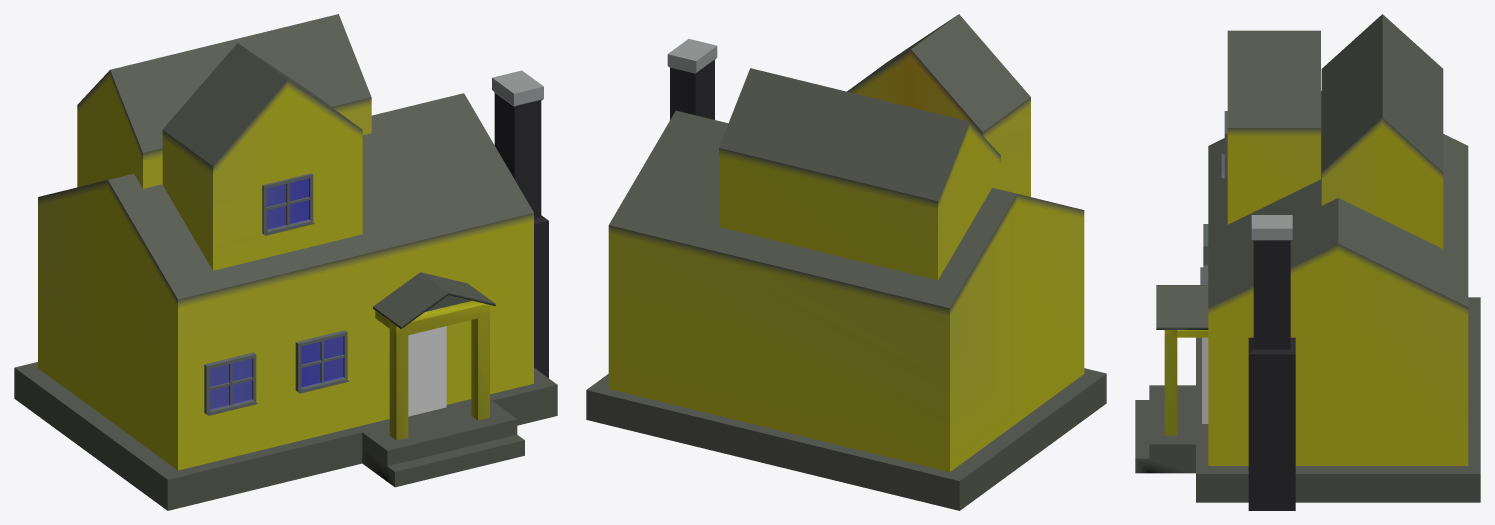
Rendered from casaAmarela.fbx.
3 views of the same model, side by side, from view 1: azimuth 30°, elevation 25°; view 2: azimuth 150°, elevation 25°; view 3: azimuth 270°, elevation 25° (orthographic). The views are drawn at different scales.
Visible parts, largest first — view 1: House, Chimney, Door, FrontLeftWindow, FrontRightWindow, SecondFloorWindow; view 2: House, Chimney; view 3: House, Chimney, Door.
Boxes of the visible parts, x1=… form: House: x1=14, y1=14, x2=557, y2=510; Chimney: x1=492, y1=70, x2=548, y2=377; Door: x1=408, y1=307, x2=446, y2=416; FrontLeftWindow: x1=204, y1=352, x2=257, y2=415; FrontRightWindow: x1=295, y1=330, x2=348, y2=393; SecondFloorWindow: x1=262, y1=173, x2=314, y2=235; House: x1=586, y1=14, x2=1106, y2=510; Chimney: x1=667, y1=39, x2=717, y2=119; House: x1=1135, y1=14, x2=1480, y2=502; Chimney: x1=1248, y1=215, x2=1295, y2=510; Door: x1=1202, y1=337, x2=1208, y2=423.
Bounding box in the file's own units: 803 × 722 × 632.
